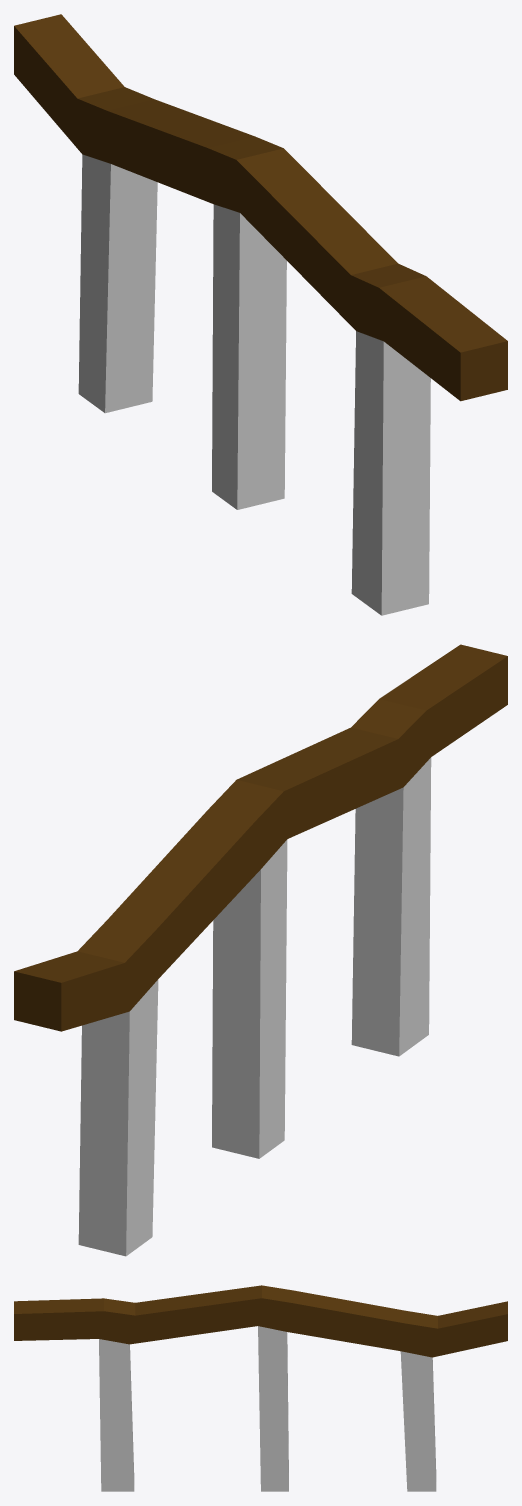
Rendered from Rail.fbx.
3 renders of one model, top to bottom at view 1: azimuth 30°, elevation 25°; view 2: azimuth 150°, elevation 25°; view 3: azimuth 270°, elevation 25°, orthographic. The views are drawn at different scales.
Visible parts, largest first — view 1: Rail; view 2: Rail; view 3: Rail.
Part boxes in pixels (x1,y1,x2,y2): Rail: (14, 14, 507, 615); Rail: (14, 644, 507, 1256); Rail: (14, 1285, 507, 1491).
Size of the model in its own units: 34.98 by 246 by 570.
